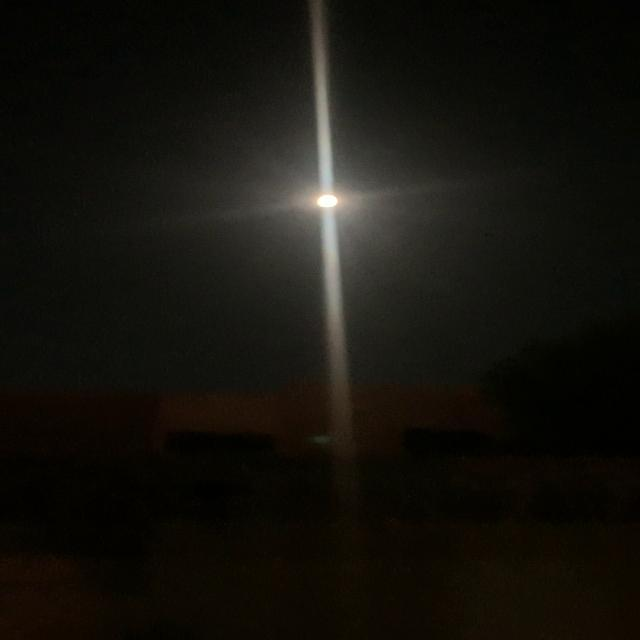moon: (292, 185, 356, 218)
